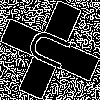U: (25, 25, 82, 76)
